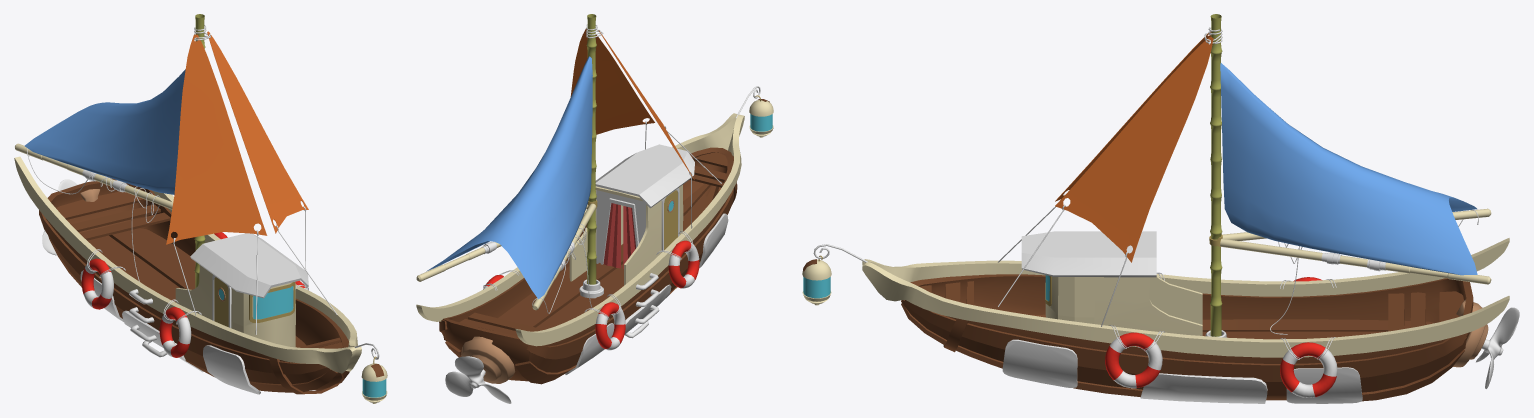
The model's file is bateau_v2.fbx.
3 renders of one model, left to right at view 1: azimuth 30°, elevation 25°; view 2: azimuth 150°, elevation 25°; view 3: azimuth 270°, elevation 25°, orthographic. The views are drawn at different scales.
Visible parts, largest first — view 1: voiles, voile _panneau, bord, coque, toit, cabine, Cube.030, planche_coque, planche.003, tole.001, planche.002, planche_coque.001 (+14 smaller); view 2: voile _panneau, bord, coque, voiles, toit, cabine, planche_coque, Cylinder.002, planche.003, Cube.010, rideaux, Circle.002 (+19 smaller); view 3: voile _panneau, bord, coque, voiles, cabine, planche_coque, toit, Cylinder.002, planche_coque.001, tole, tole.001, mats_panneau (+10 smaller).
Boxes of the visible parts, left/top/right/bottom form: voiles: left=166, top=31, right=308, bottom=244; voile _panneau: left=24, top=69, right=185, bottom=194; bord: left=14, top=156, right=361, bottom=373; coque: left=46, top=178, right=348, bottom=390; toit: left=190, top=233, right=308, bottom=298; cabine: left=175, top=265, right=295, bottom=347; Cube.030: left=56, top=191, right=170, bottom=240; planche_coque: left=39, top=210, right=325, bottom=374; planche.003: left=109, top=230, right=195, bottom=289; tole.001: left=203, top=345, right=260, bottom=394; planche.002: left=93, top=235, right=179, bottom=299; planche_coque.001: left=53, top=243, right=330, bottom=384; voile _panneau: left=426, top=56, right=592, bottom=299; bord: left=416, top=113, right=744, bottom=346; coque: left=442, top=147, right=733, bottom=381; voiles: left=570, top=29, right=694, bottom=179; toit: left=595, top=144, right=694, bottom=208; cabine: left=569, top=185, right=683, bottom=285; planche_coque: left=439, top=156, right=736, bottom=359; Cylinder.002: left=586, top=14, right=596, bottom=284; planche.003: left=518, top=183, right=710, bottom=327; Cube.010: left=596, top=190, right=645, bottom=264; rideaux: left=603, top=203, right=635, bottom=268; Circle.002: left=461, top=336, right=515, bottom=383; voile _panneau: left=1220, top=63, right=1477, bottom=275; bord: left=862, top=238, right=1509, bottom=357; coque: left=901, top=274, right=1473, bottom=400; voiles: left=1055, top=31, right=1213, bottom=262; cabine: left=1045, top=275, right=1202, bottom=335; planche_coque: left=904, top=300, right=1467, bottom=381; toit: left=1021, top=231, right=1156, bottom=277; Cylinder.002: left=1210, top=14, right=1222, bottom=336; planche_coque.001: left=902, top=300, right=1466, bottom=395; tole: left=1140, top=373, right=1267, bottom=403; tole.001: left=1002, top=339, right=1077, bottom=387; mats_panneau: left=1220, top=208, right=1491, bottom=284.
Size of the model in its own units: 315 by 698 by 1214.
